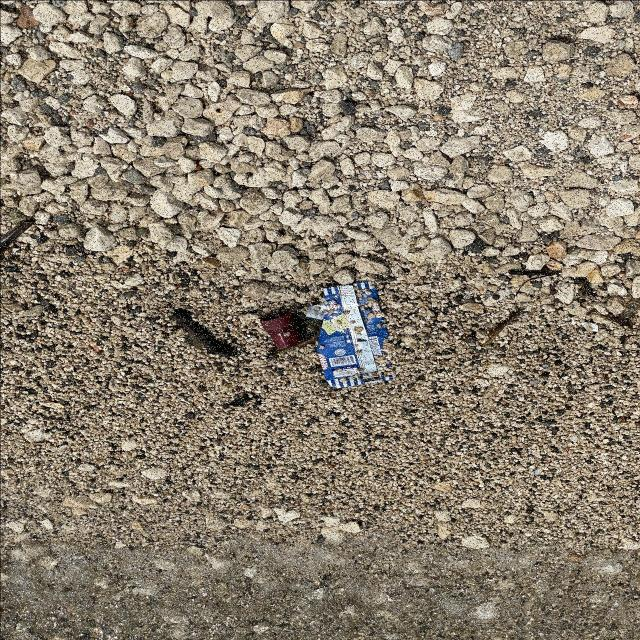plastic_waste: (316, 284, 392, 391)
